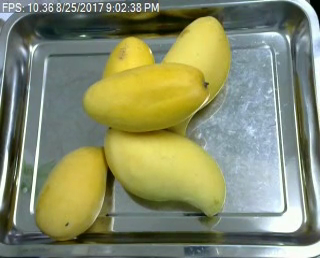Mango: (105, 128, 229, 225), (84, 61, 208, 137), (31, 145, 115, 238), (161, 14, 233, 109), (97, 34, 154, 78)
